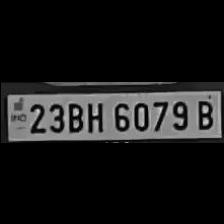0: (129, 98, 149, 130)
2: (24, 100, 46, 132)
3: (44, 98, 64, 132)
6: (108, 97, 130, 130)
7: (149, 97, 167, 131)
9: (167, 96, 189, 130)
B: (192, 97, 216, 129), (64, 98, 82, 132)
H: (83, 98, 105, 132)
